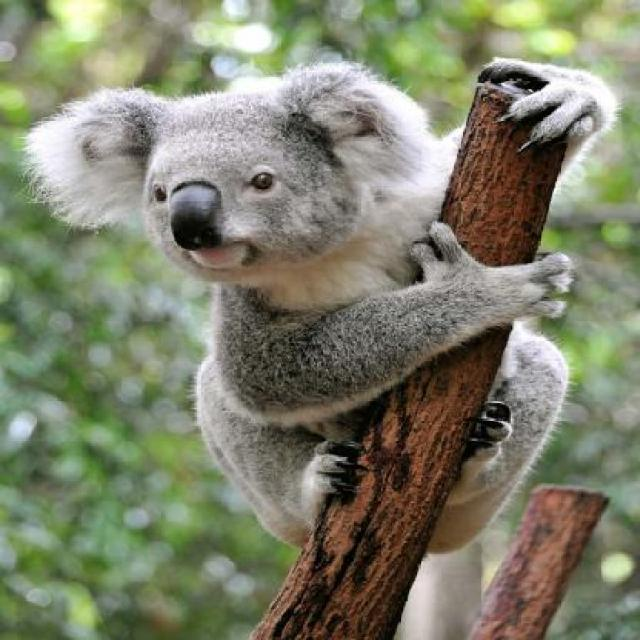Koala: (72, 44, 589, 585)
